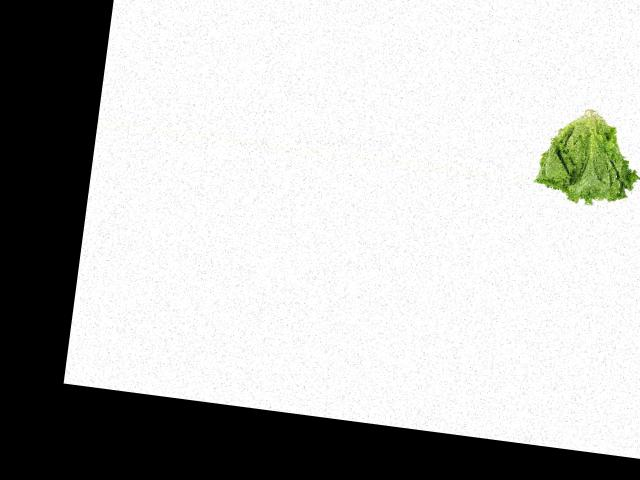lettuce: (530, 100, 640, 214)
